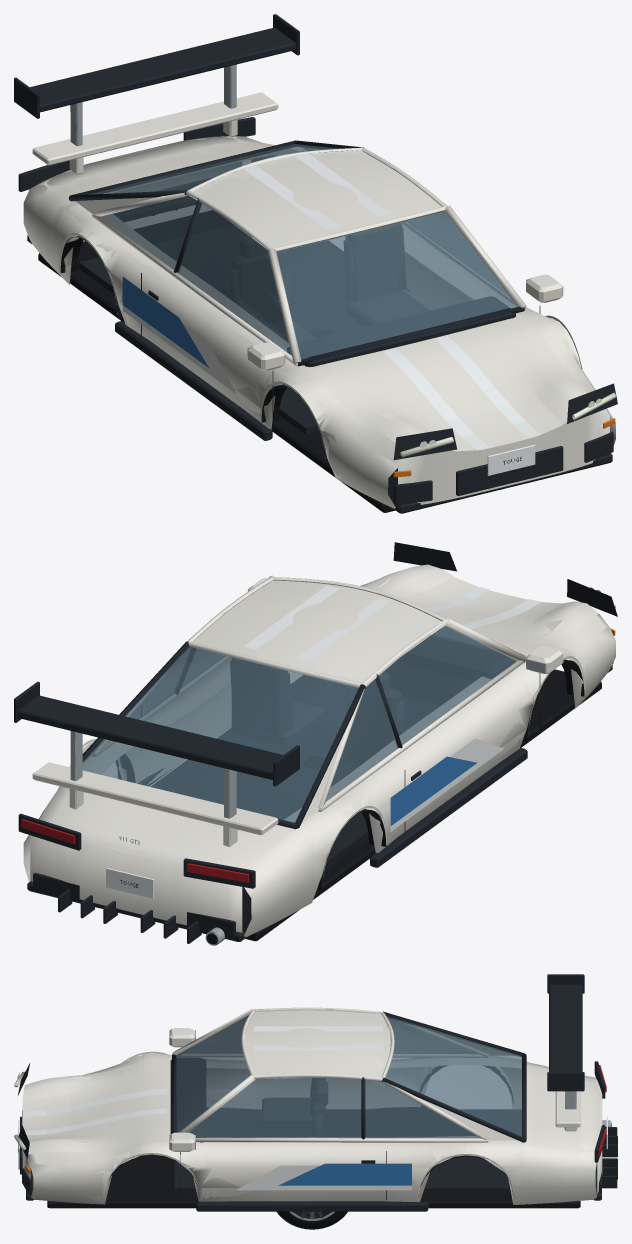
The picture shows the model from 3 angles, top to bottom: view 1: azimuth 30°, elevation 25°; view 2: azimuth 150°, elevation 25°; view 3: azimuth 270°, elevation 25°; orthographic projection. The views are drawn at different scales.
Parts seen in each view (by area): view 1: LOD0_cabin, LOD0_body, LOD0_glass, LOD1_glass, LOD1_body, LOD0_hood, LOD1_hood, LOD1_spoiler_gt, LOD0_spoiler_gt, LOD1_cabin, LOD0_vinyl_apex, LOD0_vinyl_twin (+3 smaller); view 2: LOD0_body, LOD0_cabin, LOD0_glass, LOD1_glass, LOD1_body, LOD1_cabin, LOD1_spoiler_gt, LOD0_spoiler_gt, LOD0_hood, LOD1_hood, LOD0_vinyl_apex, LOD1_spoiler_stock (+3 smaller); view 3: LOD0_body, LOD0_cabin, LOD0_glass, LOD1_glass, LOD1_body, LOD0_hood, LOD1_cabin, LOD1_hood, LOD0_vinyl_apex, LOD1_spoiler_gt, LOD0_vinyl_twin, LOD0_spoiler_gt (+4 smaller).
Part boxes in pixels (box(x1,y1,x2,y2)): LOD0_cabin: box(69, 140, 526, 434); LOD0_body: box(18, 117, 617, 513); LOD0_glass: box(89, 144, 517, 358); LOD1_glass: box(90, 144, 516, 359); LOD1_body: box(19, 136, 615, 513); LOD0_hood: box(302, 314, 586, 451); LOD1_hood: box(324, 328, 575, 451); LOD1_spoiler_gt: box(14, 27, 299, 146); LOD0_spoiler_gt: box(14, 14, 299, 145); LOD1_cabin: box(70, 147, 524, 434); LOD0_vinyl_apex: box(122, 246, 443, 393); LOD0_vinyl_twin: box(244, 153, 525, 436); LOD0_body: box(18, 542, 617, 945); LOD0_cabin: box(82, 575, 525, 869); LOD0_glass: box(83, 626, 516, 822); LOD1_glass: box(82, 626, 516, 822); LOD1_body: box(23, 561, 615, 945); LOD1_cabin: box(102, 576, 523, 870); LOD1_spoiler_gt: box(16, 681, 290, 818); LOD0_spoiler_gt: box(14, 682, 299, 818); LOD0_hood: box(363, 564, 598, 656); LOD1_hood: box(374, 577, 562, 649); LOD0_vinyl_apex: box(193, 685, 504, 831); LOD1_spoiler_stock: box(32, 762, 277, 846); LOD0_body: box(14, 1028, 617, 1211); LOD0_cabin: box(170, 1007, 526, 1193); LOD0_glass: box(176, 1015, 521, 1138); LOD1_glass: box(176, 1015, 521, 1138); LOD1_body: box(14, 1028, 611, 1211); LOD0_hood: box(22, 1060, 170, 1154); LOD1_cabin: box(171, 1009, 526, 1193); LOD1_hood: box(22, 1066, 170, 1143); LOD0_vinyl_apex: box(236, 1163, 411, 1190); LOD1_spoiler_gt: box(547, 975, 583, 1108); LOD0_vinyl_twin: box(27, 1026, 382, 1134); LOD0_spoiler_gt: box(547, 974, 584, 1109).
Size of the model in its own units: 2.11 by 1.74 by 4.73.
